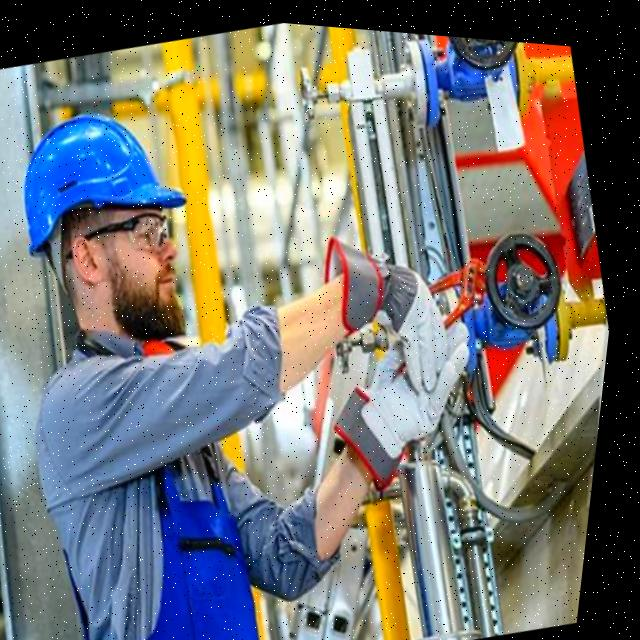illegal_helmet: (0, 79, 238, 377)
